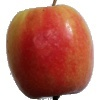apple: (5, 4, 94, 100)
